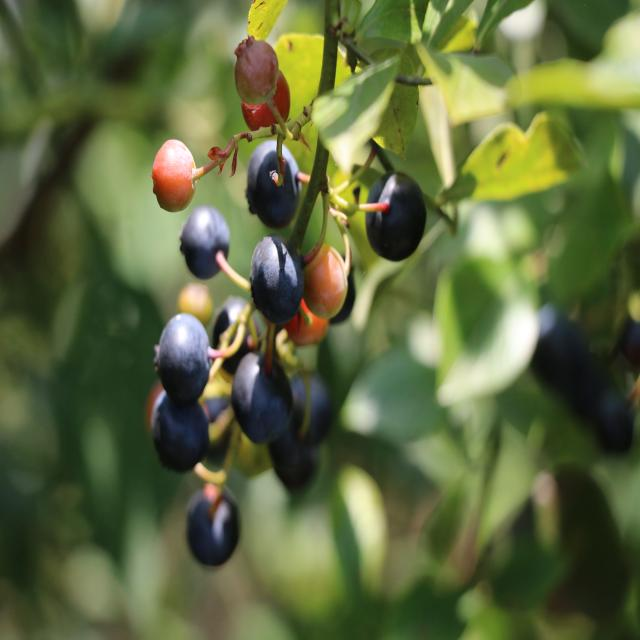blueberry: (144, 382, 215, 479), (179, 475, 247, 576), (148, 309, 218, 406), (228, 350, 295, 451), (361, 168, 429, 266), (245, 229, 310, 329), (240, 134, 306, 231), (210, 292, 266, 381), (283, 367, 339, 454), (263, 426, 325, 504), (175, 203, 232, 285), (196, 383, 243, 477)
blueberry-halfripe: (150, 137, 198, 214), (301, 246, 348, 321), (234, 39, 275, 102), (244, 74, 290, 130)
